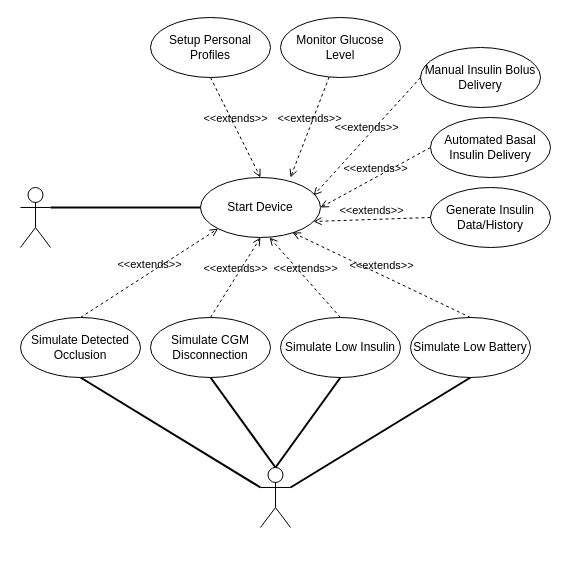
Some shapes in this 568 by 566 pixel diagram are drawn without their labels. Each missing label, with the box of its shape:
Insulin Pump: (260, 466, 290, 528)
Patient: (20, 186, 50, 248)
